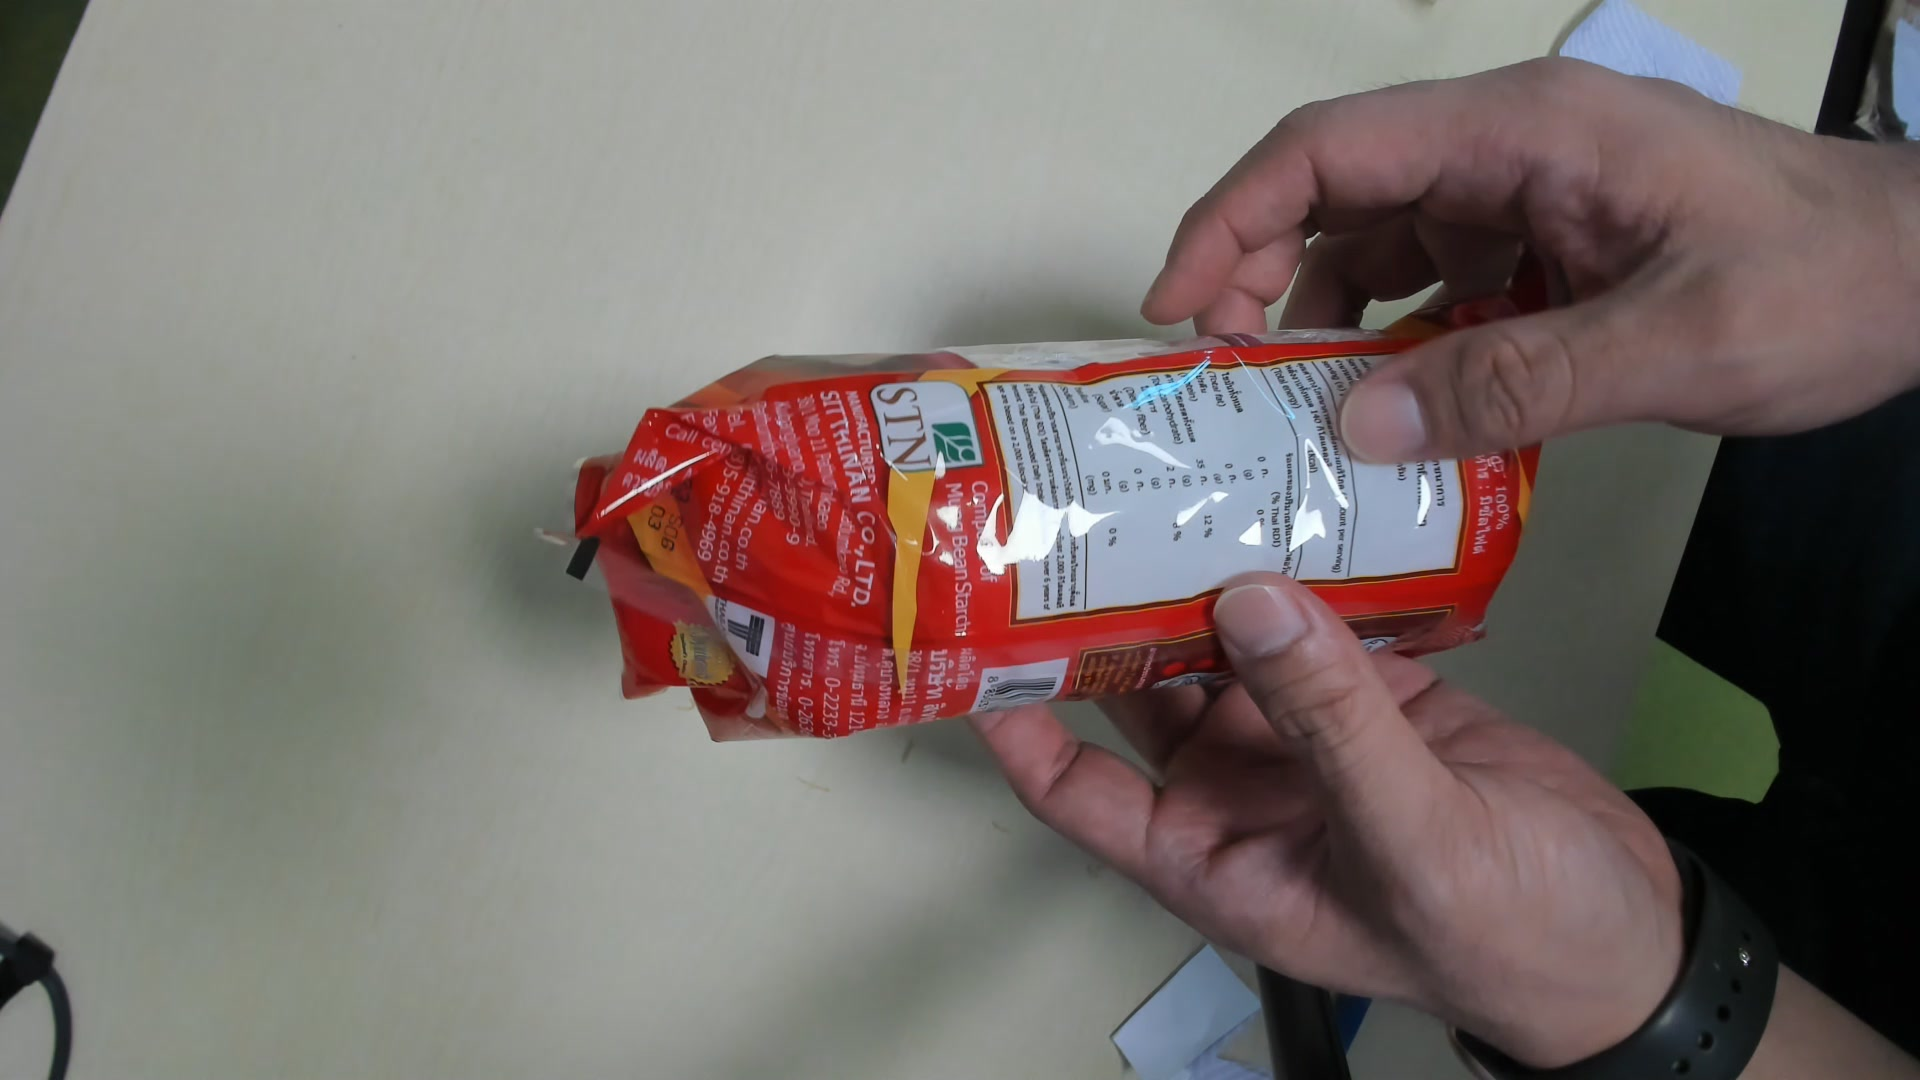BeeHoonVermicelli_0-99g_Halal_NonHealthy: (542, 327, 1542, 754)
